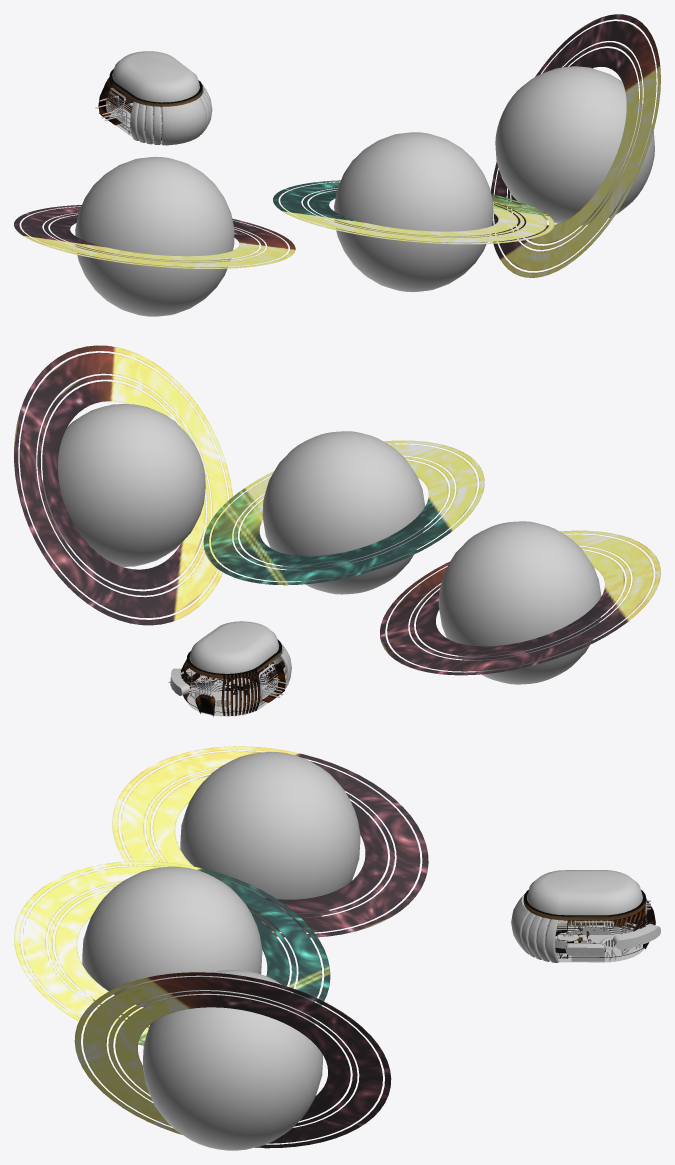
The model's file is Spaceship.fbx.
3 renders of one model, top to bottom at view 1: azimuth 30°, elevation 25°; view 2: azimuth 150°, elevation 25°; view 3: azimuth 270°, elevation 25°, orthographic. The views are drawn at different scales.
Parts seen in each view (by area): view 1: Planets, Ship; view 2: Planets, Ship; view 3: Planets, Ship.
Part boxes in pixels (x1,y1,x2,y2): Planets: [14, 14, 660, 316]; Ship: [95, 51, 212, 145]; Planets: [14, 345, 660, 684]; Ship: [168, 621, 291, 716]; Planets: [14, 746, 428, 1150]; Ship: [511, 870, 660, 962].
Size of what is drawn, in the model's own units: 5008 by 1749 by 4181.
